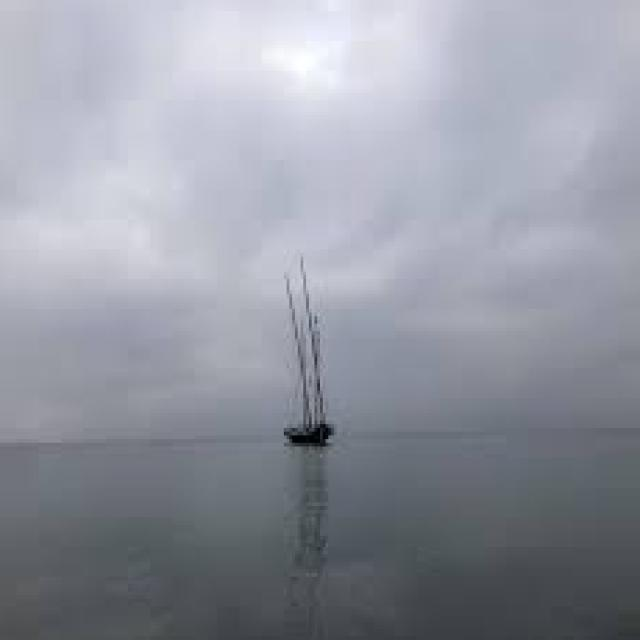fishing boat: (267, 274, 347, 444)
